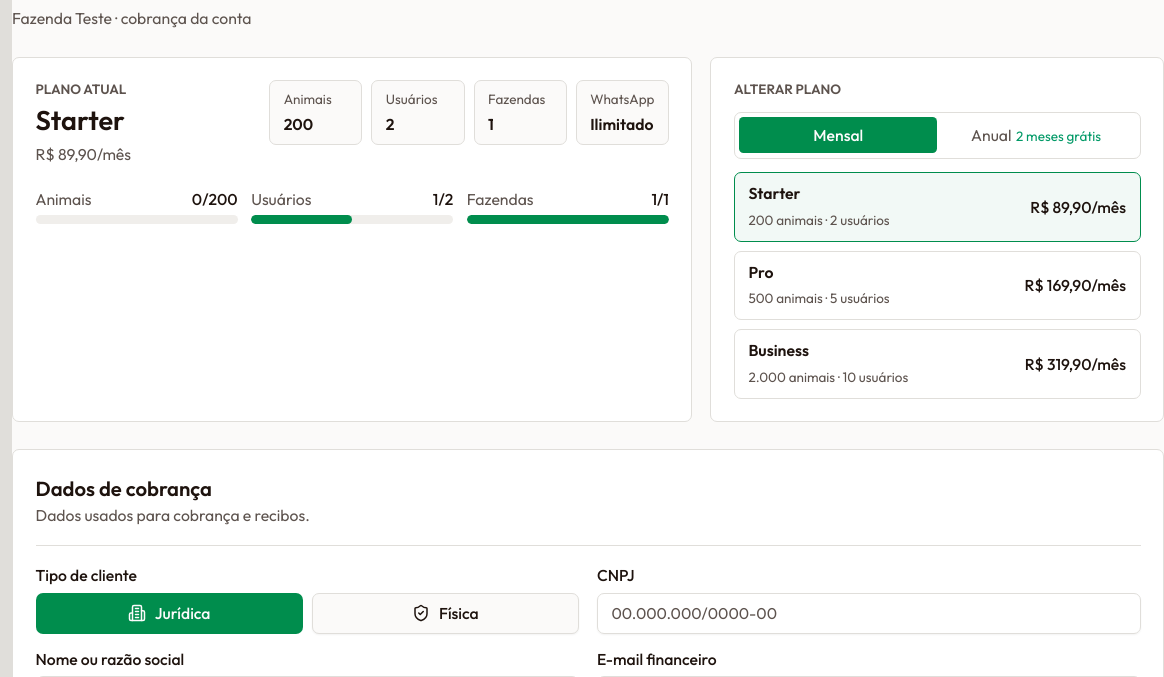
Test: billing page › switches to annual prices and shows savings label when annual toggle is clicked
Expected: the text "R$ 89,90/mês" below "Plano atual" is shown, x1=36 y1=144 x2=131 y2=164
Click the button "Anual2 meses grátis" at (1036, 136), box x1=937 y1=118 x2=1135 y2=154
(page scrolled)
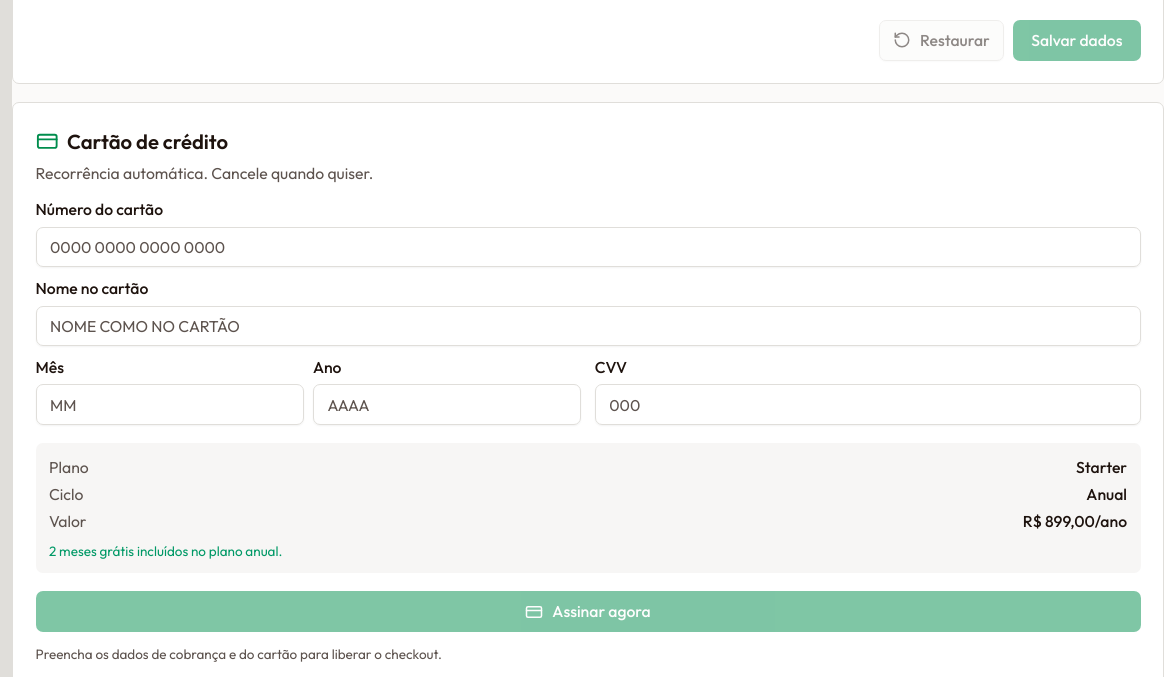
Result: the text "2 meses grátis incluídos no plano anual." is shown at x1=49 y1=542 x2=282 y2=560
